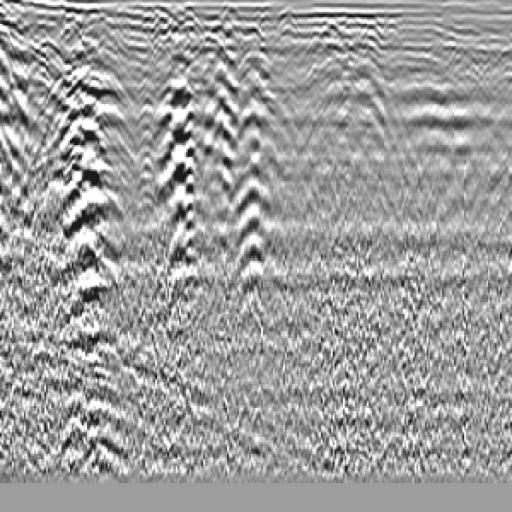metalic: (179, 43, 257, 206)
